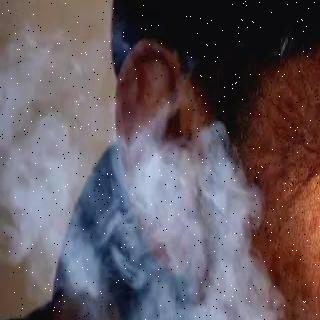smoke: (4, 63, 310, 320)
